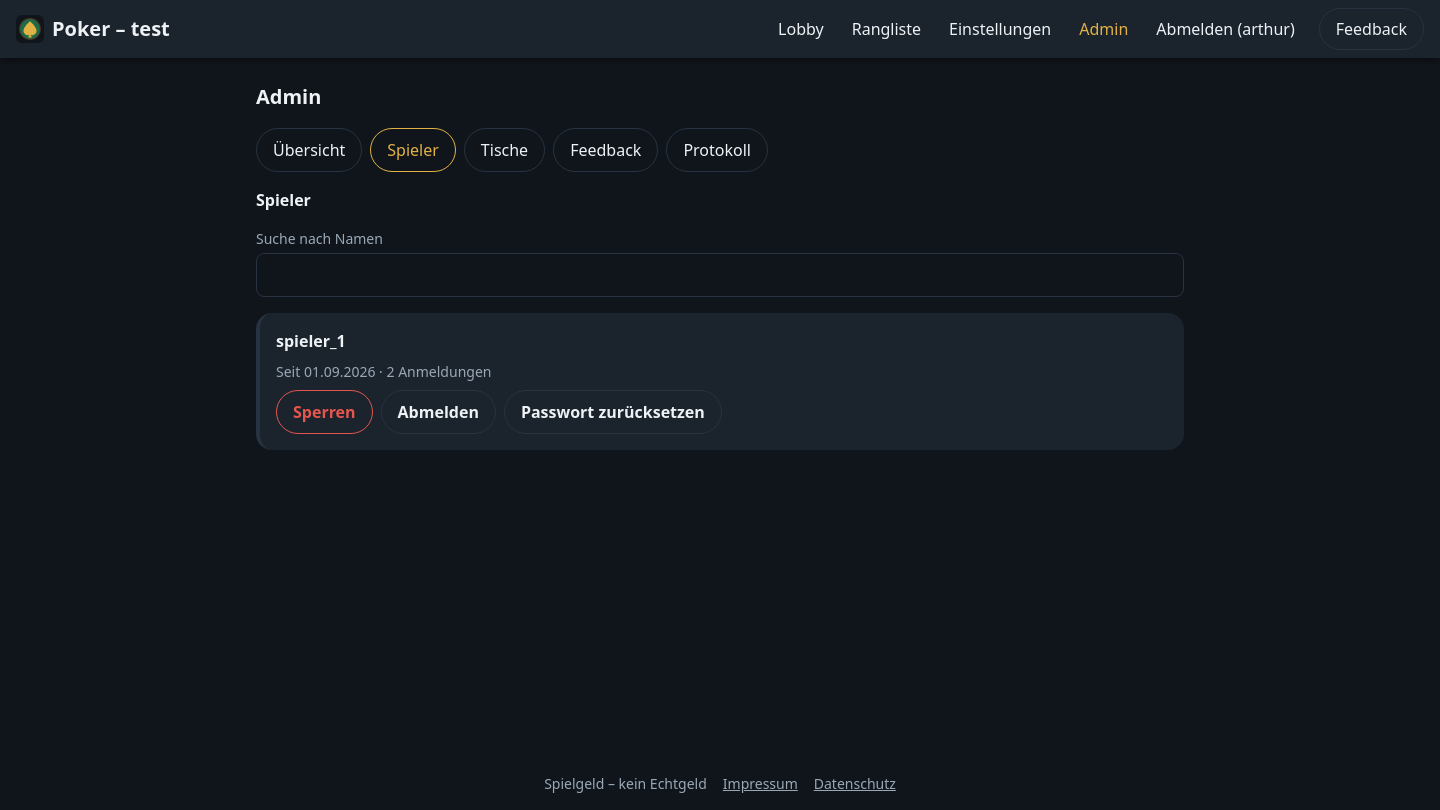
Spieler › Fehler des Servers bleibt im Dialog sichtbar
expect the heading "spieler_1" is shown: met, box [276,329,346,353]
Click the button "Abmelden" at (438, 412), box [381,390,496,434]
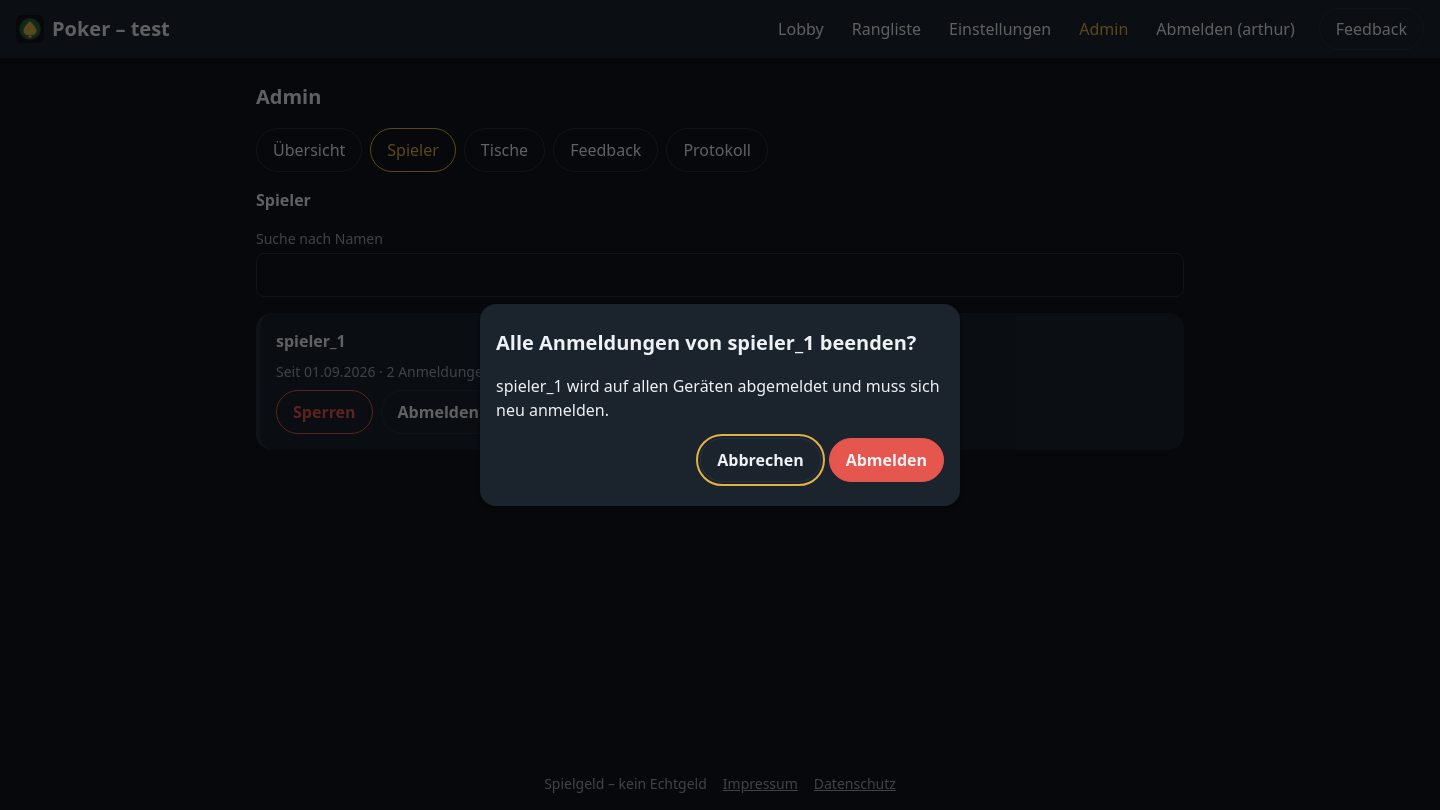
Click the button "Abmelden" at (886, 460), box [829,438,944,482]
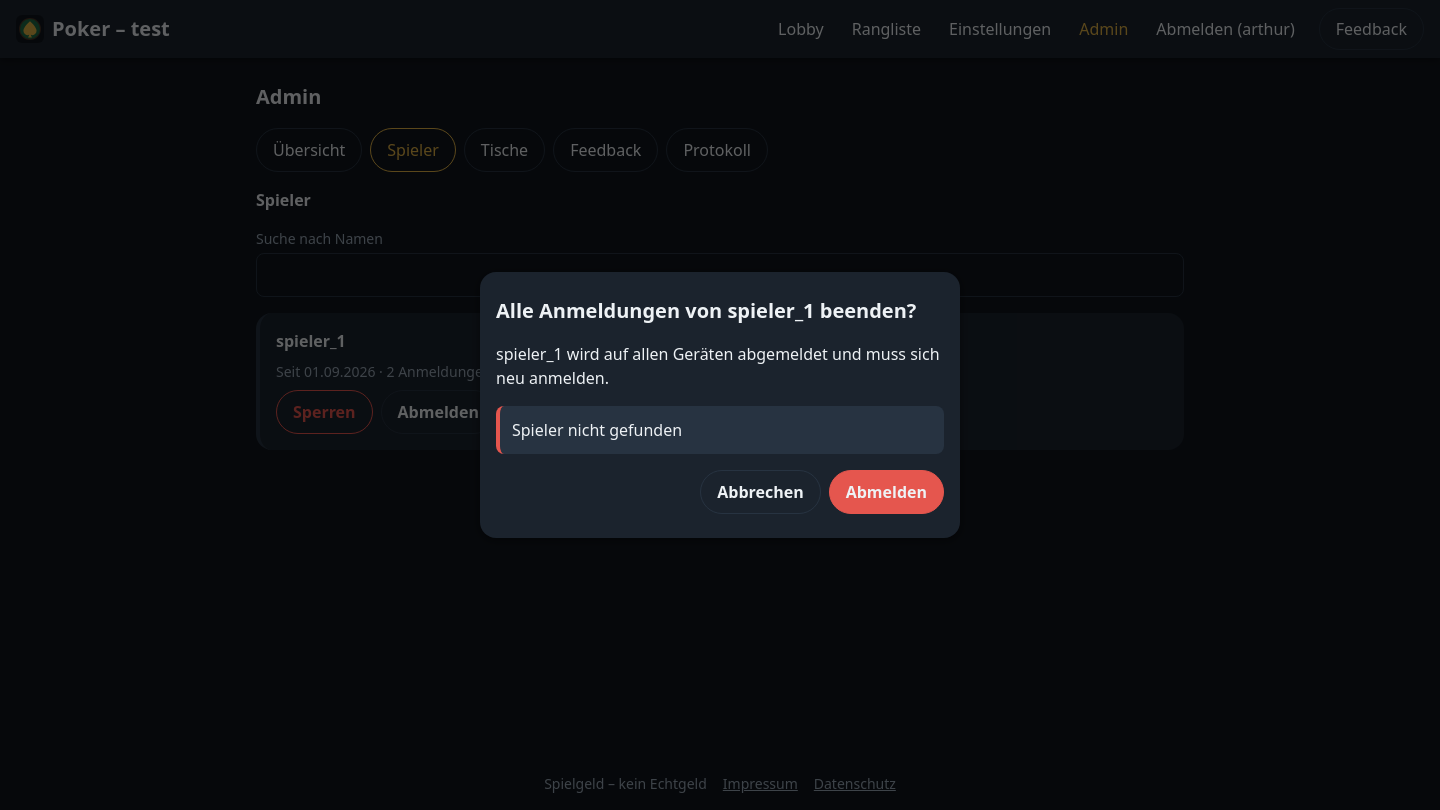
expect the message reads "Spieler nicht gefunden": met, box [512,419,682,441]
